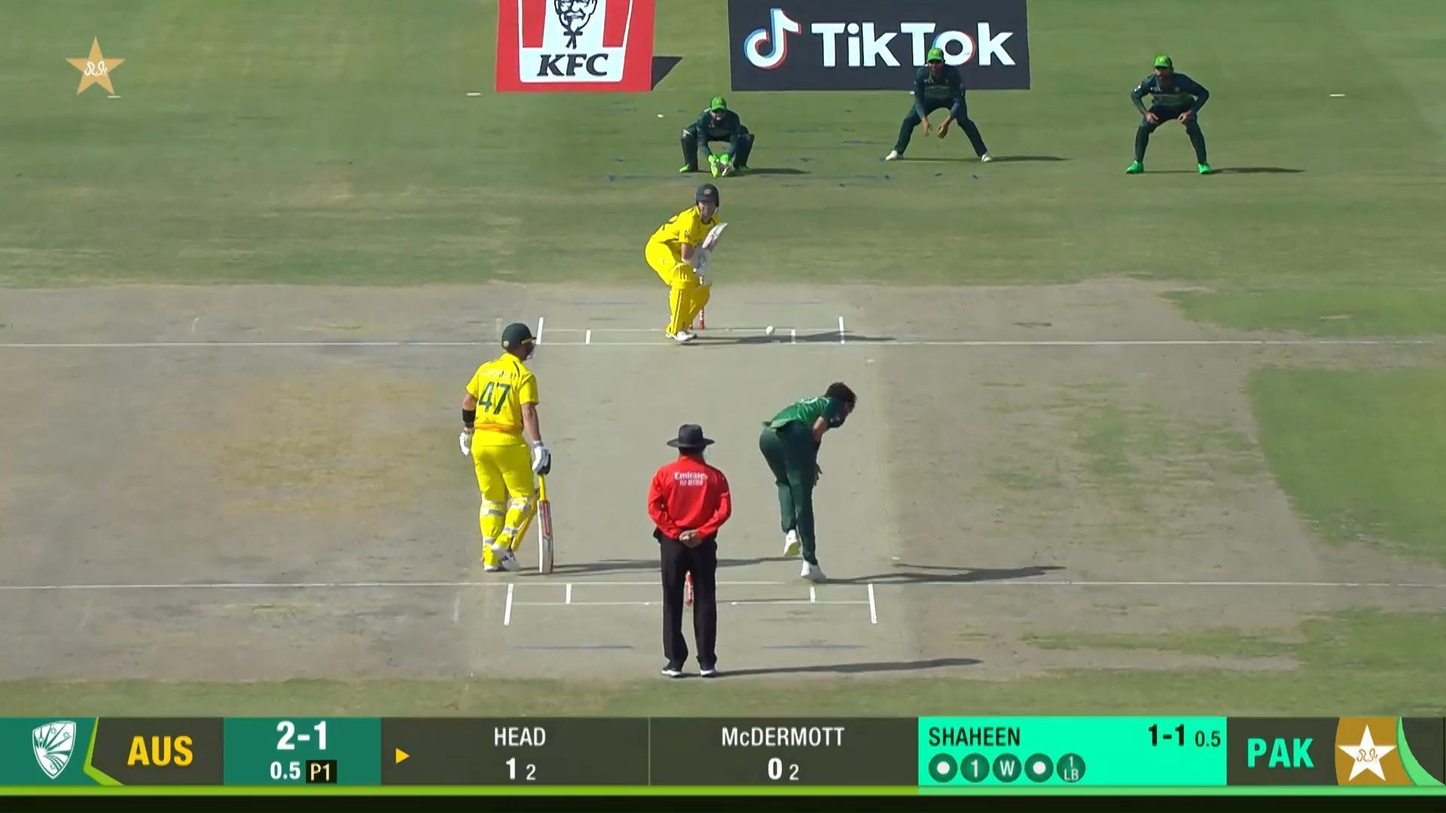BM 1: (645, 183, 728, 343)
BO: (758, 381, 858, 583)
